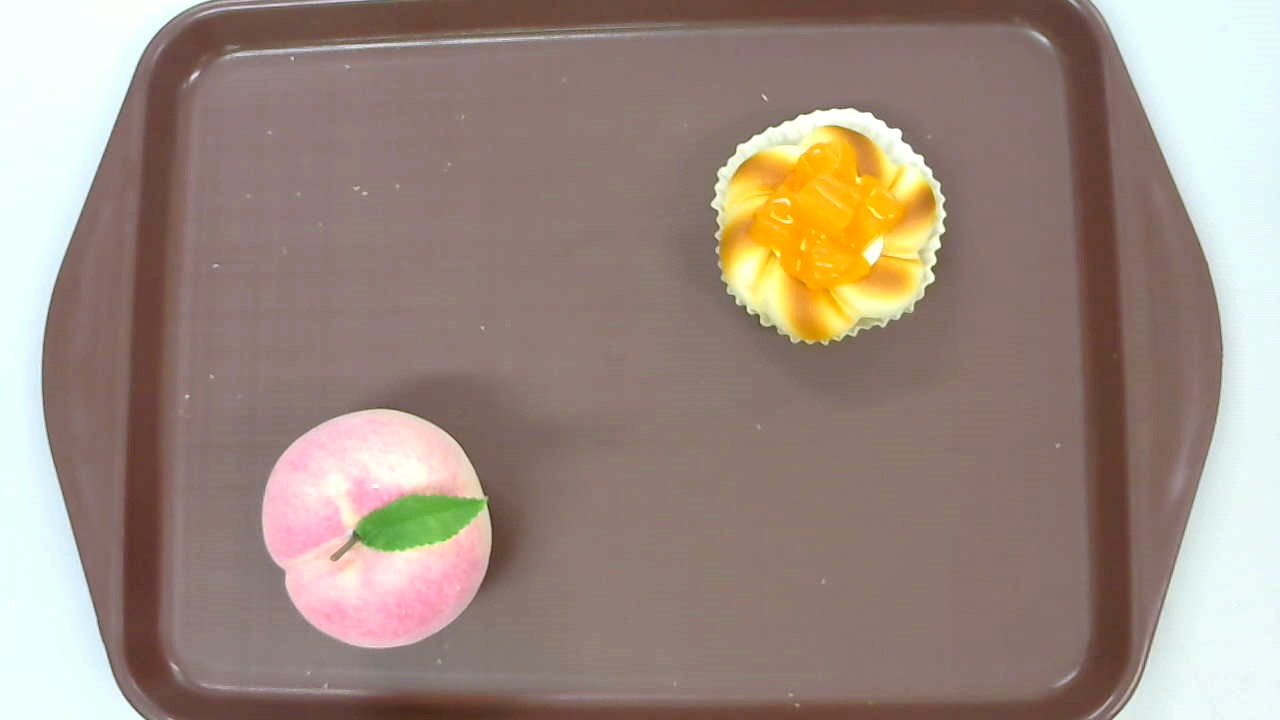mango tart: (711, 107, 948, 349)
peach: (261, 409, 492, 649)
